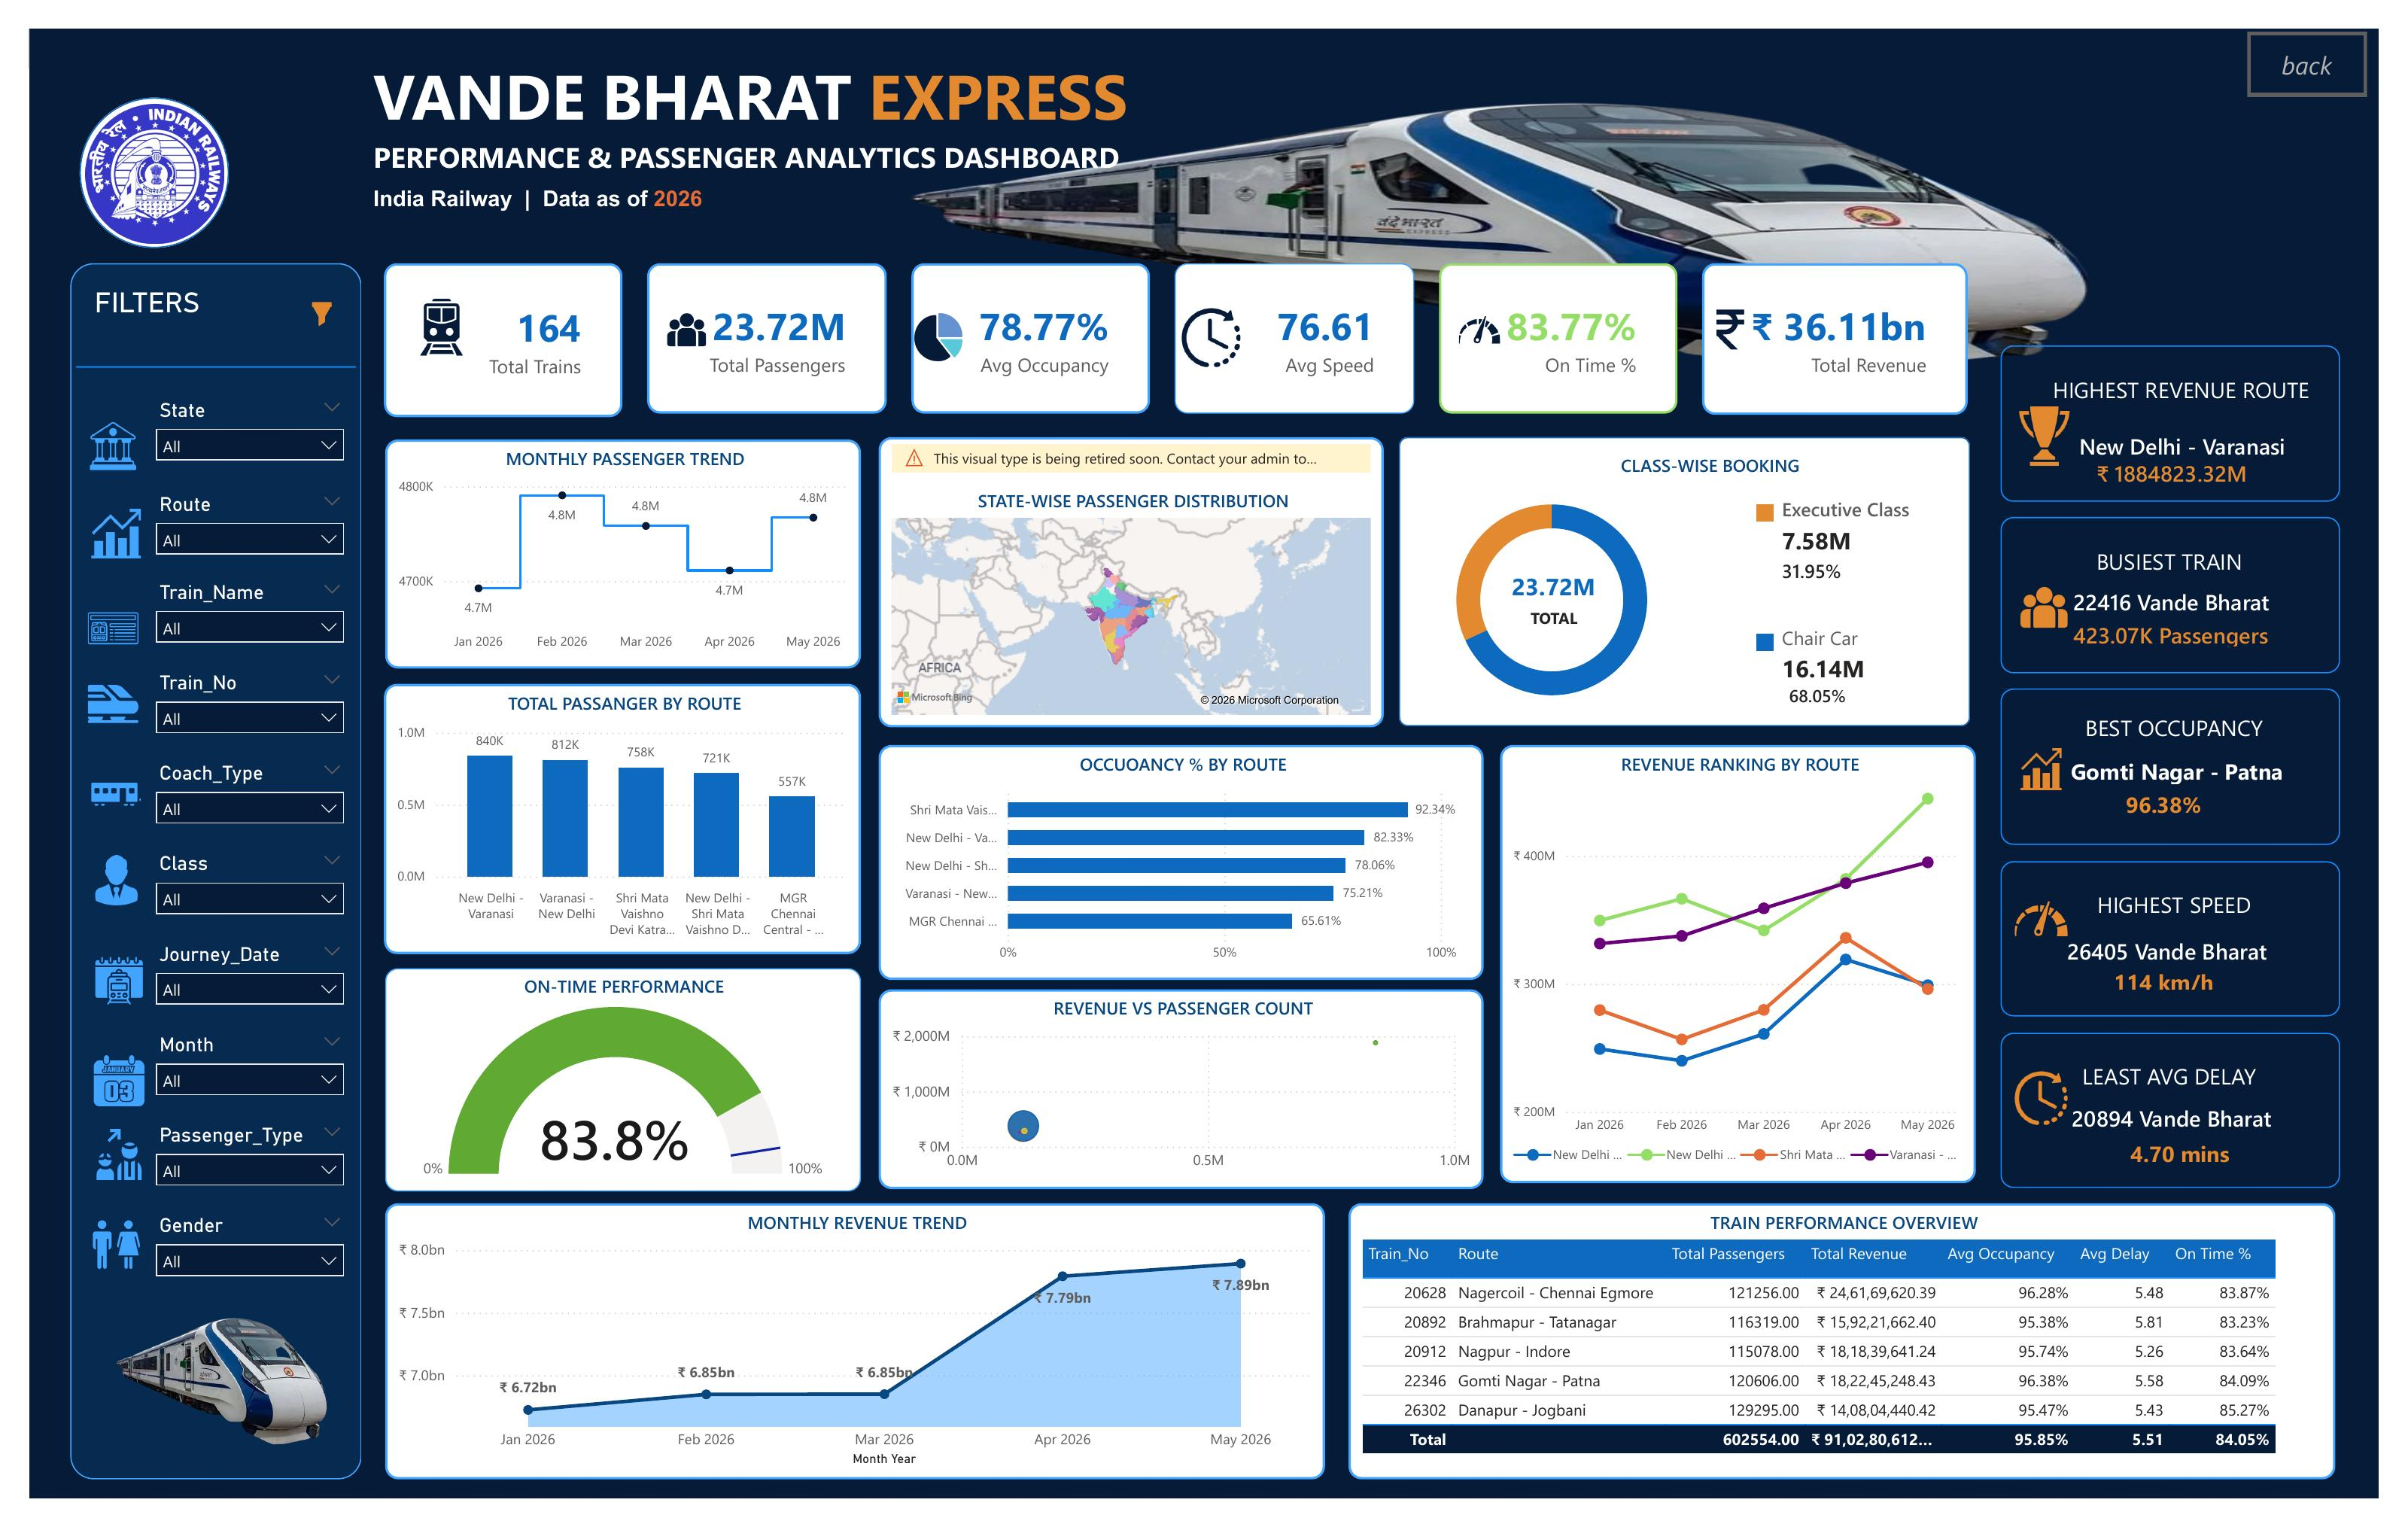

The page's visual inventory and layout, read from the dashboard file:
{"tool":"powerbi","page":{"name":"Dashboard","canvas":[2000,1251],"ordinal":1},"visuals":[{"type":"shape","box":[35,200,247.5,1035],"z":0},{"type":"shape","box":[1677.5,270,289.1,132.6],"z":0,"group":"g3"},{"type":"image","box":[600,0,1197.5,307.5],"z":1000},{"type":"shape","box":[1677.5,416.2,289.1,132.6],"z":1000,"group":"g3"},{"type":"shape","box":[43.5,58.7,126.1,128.3],"z":2000},{"type":"shape","box":[1166.4,348.2,485.6,245.7],"z":2000,"group":"g2"},{"type":"shape","box":[1677.5,562.4,289.1,132.6],"z":2000,"group":"g3"},{"type":"lineChart","title":"MONTHLY PASSENGER TREND","fields":{"Category":["Date_Table.Month Year"],"Y":["mesaures.Total Passengers"]},"box":[302.5,350,405,195],"z":3000},{"type":"shape","box":[1677.5,708.6,289.1,132.6],"z":3000,"group":"g3"},{"type":"cardVisual","fields":{"Data":["mesaures.Total Trains"]},"box":[302.4,200,203,131],"z":4000},{"type":"shape","box":[1677.5,854.8,289.1,132.6],"z":4000,"group":"g3"},{"type":"filledMap","title":"STATE-WISE PASSENGER DISTRIBUTION","fields":{"Category":["State_Master.State"],"Series":["Fact_Bookings.Passengers"]},"box":[722.5,347.5,430,247.5],"z":5000},{"type":"slicer","fields":{"Values":["Fact_Bookings.State"]},"box":[97.8,310,180,62.5],"z":6000},{"type":"cardVisual","fields":{"Data":["mesaures.Total Passengers"]},"box":[526.4,200.1,203.7,128.3],"z":7000},{"type":"slicer","fields":{"Values":["Fact_Bookings.Route"]},"box":[98,390,180,62],"z":8000},{"type":"slicer","fields":{"Values":["Fact_Bookings.Train_Name"]},"box":[97.5,464.6,180.3,62],"z":9000},{"type":"cardVisual","fields":{"Data":["mesaures.Avg Occupancy"]},"box":[751.2,200.1,203,128.3],"z":10000},{"type":"donutChart","fields":{"Category":["Fact_Bookings.Class"],"Y":["mesaures.Total Passengers"]},"box":[1173.5,380,246.3,212.5],"z":10000,"group":"g2"},{"type":"slicer","fields":{"Values":["Fact_Bookings.Train_No"]},"box":[97.5,541.7,180.3,62],"z":11000},{"type":"clusteredColumnChart","title":"TOTAL PASSANGER BY ROUTE","fields":{"Category":["Fact_Bookings.Route"],"Y":["mesaures.Total Passengers"]},"box":[302,558,406,230],"z":12000},{"type":"slicer","fields":{"Values":["Fact_Bookings.Coach_Type"]},"box":[97.5,618.7,180.3,62],"z":13000},{"type":"cardVisual","fields":{"Data":["mesaures.On Time %"]},"box":[1200,200.1,203,128.3],"z":14000},{"type":"slicer","fields":{"Values":["Fact_Bookings.Class"]},"box":[97.5,695.8,180.3,62],"z":15000},{"type":"barChart","title":"OCCUOANCY % BY ROUTE","fields":{"Category":["Fact_Bookings.Route"],"Y":["mesaures.Avg Occupancy"]},"box":[722.5,610,515,200],"z":16000},{"type":"slicer","fields":{"Values":["Fact_Bookings.Journey_Date"]},"box":[97.5,772.8,180.3,62],"z":17000},{"type":"cardVisual","fields":{"Data":["mesaures.Avg Speed"]},"box":[975.2,200.1,203.7,128.3],"z":18000},{"type":"slicer","fields":{"Values":["Fact_Bookings.Month"]},"box":[97.5,849.9,180.3,62],"z":19000},{"type":"lineChart","title":"REVENUE RANKING BY ROUTE","fields":{"Category":["Date_Table.Month Year"],"Series":["Fact_Bookings.Route"],"Y":["mesaures.Total Revenue"]},"box":[1252.4,609.5,404.8,373.8],"z":20000},{"type":"slicer","fields":{"Values":["Fact_Bookings.Passenger_Type"]},"box":[97.5,926.9,180.3,62],"z":21000},{"type":"cardVisual","fields":{"Data":["mesaures.Total Revenue"]},"box":[1424,200,225.7,128.6],"z":22000},{"type":"slicer","fields":{"Values":["Fact_Bookings.Gender"]},"box":[97.5,1004,180.3,62],"z":23000},{"type":"gauge","title":"ON-TIME PERFORMANCE","fields":{"TargetValue":["mesaures.Target On Time"],"Y":["mesaures.On Time %"]},"box":[302.5,800,405,190],"z":24000},{"type":"scatterChart","title":"REVENUE VS PASSENGER COUNT","fields":{"Category":["Fact_Bookings.Route"],"Size":["mesaures.Avg Ticket Price"],"X":["mesaures.Total Passengers"],"Y":["mesaures.Total Revenue"]},"box":[722.5,817.5,515,170],"z":25000},{"type":"areaChart","title":"MONTHLY REVENUE TREND","fields":{"Category":["Date_Table.Month Year"],"Y":["mesaures.Total Revenue"]},"box":[302.5,1000,800,235],"z":26000},{"type":"tableEx","title":"TRAIN PERFORMANCE OVERVIEW","fields":{"Values":["Train_Master.Train_No","Train_Master.Route","mesaures.Total Passengers","mesaures.Total Revenue","mesaures.Avg Occupancy","mesaures.Avg Delay","mesaures.On Time %"]},"box":[1122.5,1000,840,235],"z":27000},{"type":"image","box":[39.1,65.2,134.8,117.4],"z":28000},{"type":"textbox","box":[287.5,15,895,87.5],"z":29000},{"type":"textbox","box":[287.5,87.5,712.5,42.5],"z":30000},{"type":"cardVisual","fields":{"Data":["mesaures.Executive Class Passengers"]},"box":[1463.3,330,195.1,187.5],"z":30000,"group":"g2"},{"type":"textbox","box":[287.5,130,435,55],"z":31000},{"type":"cardVisual","fields":{"Data":["mesaures.Chair Car Passengers"]},"box":[1463.3,450.5,182.4,165],"z":31000,"group":"g2"},{"type":"textbox","title":"FILTERS","box":[12.5,220,175,55],"z":32000},{"type":"cardVisual","fields":{"Data":["mesaures.Executive Class %"]},"box":[1463.3,424.2,182.4,71.7],"z":32000,"group":"g2"},{"type":"shape","box":[40,277.5,237.5,20],"z":33000},{"type":"cardVisual","fields":{"Data":["mesaures.Chair Car %"]},"box":[1469.7,535.1,182.4,63],"z":33000,"group":"g2"},{"type":"image","box":[42.5,1067.5,222.5,145],"z":34000},{"type":"cardVisual","fields":{"Data":["mesaures.Least Delay Text"]},"box":[1760,930,150,52.5],"z":35000},{"type":"cardVisual","fields":{"Data":["mesaures.Least Delay Card"]},"box":[1710,897.5,232.5,57.5],"z":36000},{"type":"group","id":"g1","title":"Group 1","box":[1677.5,270,312.5,717.5],"z":37000},{"type":"group","id":"g2","title":"Group 3","box":[1166.4,330,492,285.5],"z":38000},{"type":"image","box":[1690,322,50,50],"z":39000},{"type":"image","box":[1695,470,40,45],"z":40000},{"type":"textbox","box":[1327.6,356.8,207.8,34.8],"z":41000,"group":"g2"},{"type":"image","box":[1695,610,35,40],"z":41000},{"type":"cardVisual","fields":{"Data":["mesaures.Total Passengers"]},"box":[1170,417.5,192.5,110],"z":42000,"group":"g2"},{"type":"image","box":[1690,735,45,45],"z":42000},{"type":"textbox","box":[1273,487.5,132.5,52.5],"z":43000,"group":"g2"},{"type":"image","box":[1690,887.5,45,45],"z":43000},{"type":"image","box":[1423.8,228.6,50,54.8],"z":44000},{"type":"group","id":"g3","title":"Group 2","box":[1677.5,270,289.1,717.4],"z":44000,"group":"g1"},{"type":"image","box":[1216.7,231,35.7,50],"z":45000},{"type":"image","box":[981,238.1,50,50],"z":46000},{"type":"image","box":[750,242.9,47.6,40.5],"z":47000},{"type":"cardVisual","fields":{"Data":["mesaures.Highest Speed Text"]},"box":[1745.5,785.4,152.5,50],"z":47000,"group":"g1"},{"type":"image","box":[542.9,231,33.3,50],"z":48000},{"type":"cardVisual","fields":{"Data":["mesaures.Highest Speed Train No"]},"box":[1705.5,750.4,235,67.5],"z":48000,"group":"g1"},{"type":"image","box":[326.2,228.6,50,50],"z":49000},{"type":"cardVisual","fields":{"Data":["mesaures.Best Occupancy"]},"box":[1755.5,627.9,132.5,62.5],"z":49000,"group":"g1"},{"type":"image","box":[50,330,42.5,50],"z":50000},{"type":"cardVisual","fields":{"Data":["mesaures.Best Occupancy Route"]},"box":[1708,602.9,282.5,57.5],"z":50000,"group":"g1"},{"type":"image","box":[52.5,405,42.5,50],"z":51000},{"type":"cardVisual","fields":{"Data":["mesaures.Busiest Train Passengers"]},"box":[1710.5,487.9,230,55],"z":51000,"group":"g1"},{"type":"cardVisual","fields":{"Data":["mesaures.Busiest Train Card"]},"box":[1710.5,460.4,242.5,55],"z":52000,"group":"g1"},{"type":"image","box":[50,485,42.5,50],"z":52000},{"type":"cardVisual","fields":{"Data":["mesaures.Highest Revenue Route"]},"box":[1715.5,327.9,247.5,52.5],"z":53000,"group":"g1"},{"type":"image","box":[50,555,42.5,50],"z":53000},{"type":"cardVisual","fields":{"Data":["mesaures.Highest Revenue Text"]},"box":[1730.5,350.4,195,55],"z":54000,"group":"g1"},{"type":"image","box":[52.5,625,42.5,50],"z":54000},{"type":"image","box":[52.5,700,42.5,50],"z":55000},{"type":"image","box":[55,785,42.5,50],"z":56000},{"type":"image","box":[55,870,42.5,50],"z":57000},{"type":"image","box":[55,932.5,42.5,50],"z":58000},{"type":"image","box":[52.5,1010,42.5,50],"z":59000},{"type":"image","box":[237.5,222.5,22.5,40],"z":60000},{"type":"shape","box":[1470,405,15,15],"z":61000},{"type":"shape","box":[1470,515,15,15],"z":62000},{"type":"textbox","box":[1712,290,240,46],"z":63000},{"type":"textbox","box":[1702,436,240,46],"z":64000},{"type":"textbox","box":[1706,578,240,46],"z":65000},{"type":"textbox","box":[1706,728,240,46],"z":66000},{"type":"textbox","box":[1702,874,240,46],"z":67000},{"type":"actionButton","box":[1887.5,2.5,102.5,55],"z":68000}]}

Visuals, with their boxes on the page's 2000x1251 design canvas (x1, y1, x2, y2). These are canvas units, not pixel positions in the 2408x1527 screenshot, which may show the page scaled, cropped or inside an application window:
shape: crop(35, 200, 282, 1235)
shape: crop(1678, 270, 1967, 403)
image: crop(600, 0, 1798, 308)
shape: crop(1678, 416, 1967, 549)
shape: crop(44, 59, 170, 187)
shape: crop(1166, 348, 1652, 594)
shape: crop(1678, 562, 1967, 695)
"MONTHLY PASSENGER TREND" lineChart: crop(302, 350, 708, 545)
shape: crop(1678, 709, 1967, 841)
cardVisual - mesaures.Total Trains: crop(302, 200, 505, 331)
shape: crop(1678, 855, 1967, 987)
"STATE-WISE PASSENGER DISTRIBUTION" filledMap: crop(722, 348, 1152, 595)
slicer - Fact_Bookings.State: crop(98, 310, 278, 372)
cardVisual - mesaures.Total Passengers: crop(526, 200, 730, 328)
slicer - Fact_Bookings.Route: crop(98, 390, 278, 452)
slicer - Fact_Bookings.Train_Name: crop(98, 465, 278, 527)
cardVisual - mesaures.Avg Occupancy: crop(751, 200, 954, 328)
donutChart - Fact_Bookings.Class x mesaures.Total Passengers: crop(1174, 380, 1420, 592)
slicer - Fact_Bookings.Train_No: crop(98, 542, 278, 604)
"TOTAL PASSANGER BY ROUTE" clusteredColumnChart: crop(302, 558, 708, 788)
slicer - Fact_Bookings.Coach_Type: crop(98, 619, 278, 681)
cardVisual - mesaures.On Time %: crop(1200, 200, 1403, 328)
slicer - Fact_Bookings.Class: crop(98, 696, 278, 758)
"OCCUOANCY % BY ROUTE" barChart: crop(722, 610, 1238, 810)
slicer - Fact_Bookings.Journey_Date: crop(98, 773, 278, 835)
cardVisual - mesaures.Avg Speed: crop(975, 200, 1179, 328)
slicer - Fact_Bookings.Month: crop(98, 850, 278, 912)
"REVENUE RANKING BY ROUTE" lineChart: crop(1252, 610, 1657, 983)
slicer - Fact_Bookings.Passenger_Type: crop(98, 927, 278, 989)
cardVisual - mesaures.Total Revenue: crop(1424, 200, 1650, 329)
slicer - Fact_Bookings.Gender: crop(98, 1004, 278, 1066)
"ON-TIME PERFORMANCE" gauge: crop(302, 800, 708, 990)
"REVENUE VS PASSENGER COUNT" scatterChart: crop(722, 818, 1238, 988)
"MONTHLY REVENUE TREND" areaChart: crop(302, 1000, 1102, 1235)
"TRAIN PERFORMANCE OVERVIEW" tableEx: crop(1122, 1000, 1962, 1235)
image: crop(39, 65, 174, 183)
textbox: crop(288, 15, 1182, 102)
textbox: crop(288, 88, 1000, 130)
cardVisual - mesaures.Executive Class Passengers: crop(1463, 330, 1658, 518)
textbox: crop(288, 130, 722, 185)
cardVisual - mesaures.Chair Car Passengers: crop(1463, 450, 1646, 616)
"FILTERS" textbox: crop(12, 220, 188, 275)
cardVisual - mesaures.Executive Class %: crop(1463, 424, 1646, 496)
shape: crop(40, 278, 278, 298)
cardVisual - mesaures.Chair Car %: crop(1470, 535, 1652, 598)
image: crop(42, 1068, 265, 1212)
cardVisual - mesaures.Least Delay Text: crop(1760, 930, 1910, 982)
cardVisual - mesaures.Least Delay Card: crop(1710, 898, 1942, 955)
"Group 1" group: crop(1678, 270, 1990, 988)
"Group 3" group: crop(1166, 330, 1658, 616)
image: crop(1690, 322, 1740, 372)
image: crop(1695, 470, 1735, 515)
textbox: crop(1328, 357, 1535, 392)
image: crop(1695, 610, 1730, 650)
cardVisual - mesaures.Total Passengers: crop(1170, 418, 1362, 528)
image: crop(1690, 735, 1735, 780)
textbox: crop(1273, 488, 1406, 540)
image: crop(1690, 888, 1735, 932)
image: crop(1424, 229, 1474, 283)
"Group 2" group: crop(1678, 270, 1967, 987)
image: crop(1217, 231, 1252, 281)
image: crop(981, 238, 1031, 288)
image: crop(750, 243, 798, 283)
cardVisual - mesaures.Highest Speed Text: crop(1746, 785, 1898, 835)
image: crop(543, 231, 576, 281)
cardVisual - mesaures.Highest Speed Train No: crop(1706, 750, 1940, 818)
image: crop(326, 229, 376, 279)
cardVisual - mesaures.Best Occupancy: crop(1756, 628, 1888, 690)
image: crop(50, 330, 92, 380)
cardVisual - mesaures.Best Occupancy Route: crop(1708, 603, 1990, 660)
image: crop(52, 405, 95, 455)
cardVisual - mesaures.Busiest Train Passengers: crop(1710, 488, 1940, 543)
cardVisual - mesaures.Busiest Train Card: crop(1710, 460, 1953, 515)
image: crop(50, 485, 92, 535)
cardVisual - mesaures.Highest Revenue Route: crop(1716, 328, 1963, 380)
image: crop(50, 555, 92, 605)
cardVisual - mesaures.Highest Revenue Text: crop(1730, 350, 1926, 405)
image: crop(52, 625, 95, 675)
image: crop(52, 700, 95, 750)
image: crop(55, 785, 98, 835)
image: crop(55, 870, 98, 920)
image: crop(55, 932, 98, 982)
image: crop(52, 1010, 95, 1060)
image: crop(238, 222, 260, 262)
shape: crop(1470, 405, 1485, 420)
shape: crop(1470, 515, 1485, 530)
textbox: crop(1712, 290, 1952, 336)
textbox: crop(1702, 436, 1942, 482)
textbox: crop(1706, 578, 1946, 624)
textbox: crop(1706, 728, 1946, 774)
textbox: crop(1702, 874, 1942, 920)
actionButton: crop(1888, 2, 1990, 58)
